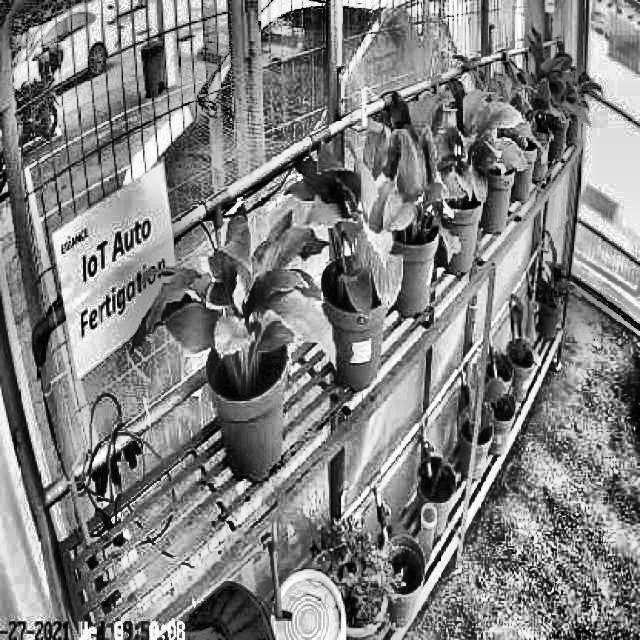plants: (134, 198, 336, 397), (307, 134, 398, 330), (372, 94, 465, 260), (408, 74, 528, 188)
